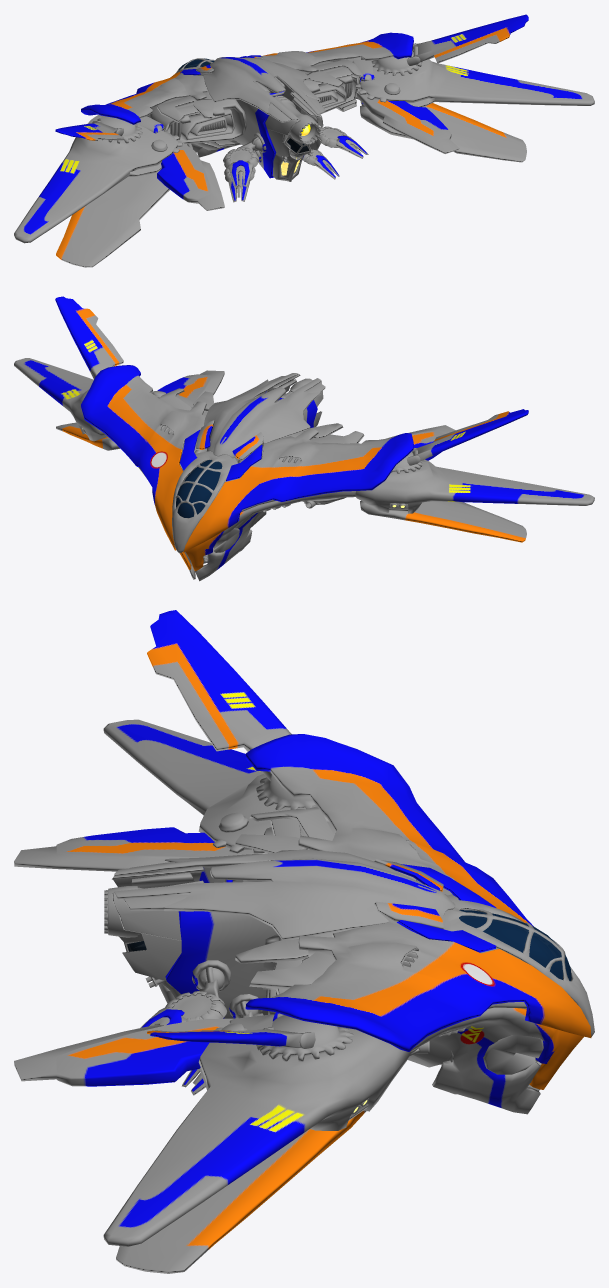
File: guardians_of_the_galaxy_milano_mandela_spaceship.glb
3 renders of one model, top to bottom at view 1: azimuth 30°, elevation 25°; view 2: azimuth 150°, elevation 25°; view 3: azimuth 270°, elevation 25°, orthographic. The views are drawn at different scales.
Visible parts, largest first — view 1: GotG Milano.Shape; view 2: GotG Milano.Shape; view 3: GotG Milano.Shape.
Boxes of the visible parts, x1,y1,x2,y2 form: GotG Milano.Shape: (14,14,594,267); GotG Milano.Shape: (14,296,594,581); GotG Milano.Shape: (14,610,594,1273).
Bounding box in the file's own units: 5800 × 1497 × 2730.
Materials: 54 (52 with a texture image).
